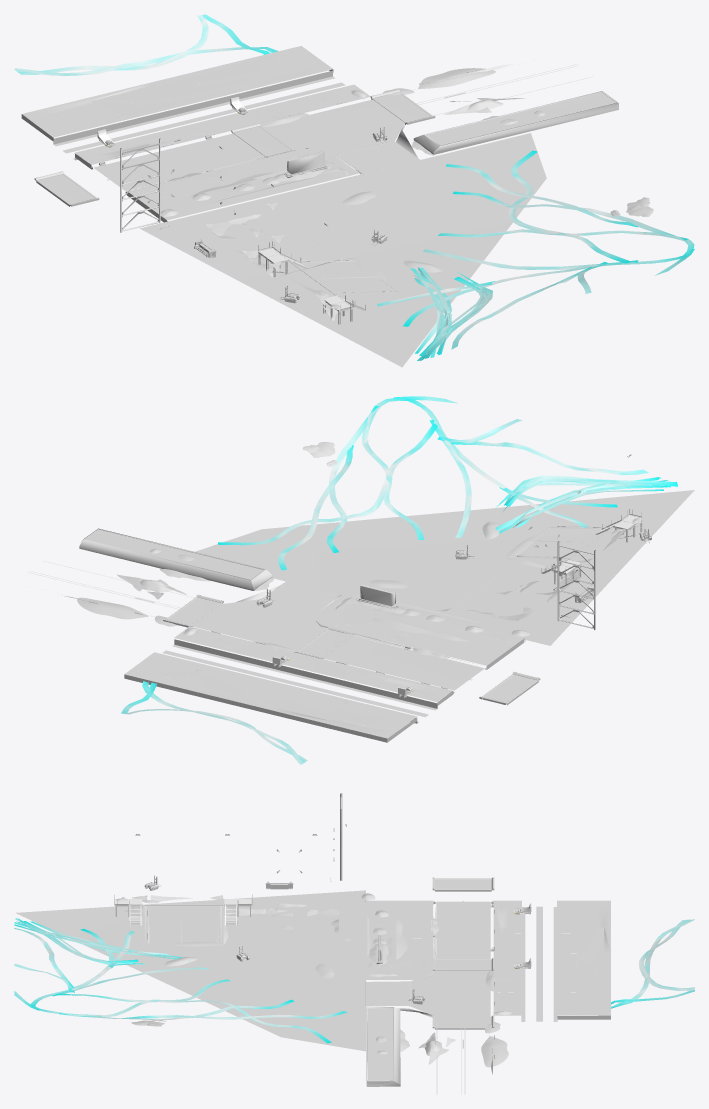
The model's file is cell_86_59.fbx.
3 renders of one model, top to bottom at view 1: azimuth 30°, elevation 25°; view 2: azimuth 150°, elevation 25°; view 3: azimuth 270°, elevation 25°, orthographic. The views are drawn at different scales.
Visible parts, largest first — view 1: SM_I_RoadFacility_Ground_B_04.mo, SM_I_RoadFacility_Ground_B_09.mo, SpaceCenter_Long3_GenerateRoad_Sand_TireTracks_Width_Mesh_x. (×2), SM_I_RoadFacility_Ground_BFlowerBed_02.mo, SpaceCenter_Long3_GenerateRoad_Sand_TireTracks_Narrow_Mesh_., SM_H_Building_FutureTech_PrintArea_ExterWall_01C.mo.001, SM_RoadFacility_Road_AsphaltRoad_512_01.mo.035, SM_RoadFacility_Road_AsphaltRoad_512_01.mo.040, SM_RoadFacility_Road_AsphaltRoad_512_01.mo.039, SM_H_WalkwaySystem_MetalSupport_17.mo, SM_I_Terrain_Road_Desert_Decal_Sand_01.mo.153, SM_I_RoadFacility_Ground_B_04B.mo (+1 smaller); view 2: SM_I_RoadFacility_Ground_B_04.mo, SM_I_RoadFacility_Ground_B_09.mo, SpaceCenter_Long3_GenerateRoad_Sand_TireTracks_Width_Mesh_x. (×2), SM_I_RoadFacility_Ground_BFlowerBed_02.mo, SpaceCenter_Long3_GenerateRoad_Sand_TireTracks_Narrow_Mesh_., SM_H_Building_FutureTech_PrintArea_ExterWall_01C.mo.001, SM_RoadFacility_Road_AsphaltRoad_512_01.mo.035, SM_RoadFacility_Road_AsphaltRoad_512_01.mo.040, SM_RoadFacility_Road_AsphaltRoad_512_01.mo.039, SM_I_Terrain_Road_Desert_Decal_Sand_01.mo.153, SM_H_WalkwaySystem_MetalSupport_17.mo, SM_I_RoadFacility_Ground_B_04B.mo (+1 smaller); view 3: SM_I_RoadFacility_Ground_B_04.mo, SM_I_RoadFacility_Ground_B_09.mo, SpaceCenter_Long3_GenerateRoad_Sand_TireTracks_Width_Mesh_x. (×2), SM_I_RoadFacility_Ground_BFlowerBed_02.mo, SpaceCenter_Long3_GenerateRoad_Sand_TireTracks_Narrow_Mesh_., SM_H_WalkwaySystem_MetalSupport_17.mo, SM_RoadFacility_Road_AsphaltRoad_512_01.mo.035, SM_RoadFacility_Road_AsphaltRoad_512_01.mo.040, SM_RoadFacility_Road_AsphaltRoad_512_01.mo.039, SM_I_Terrain_Road_Desert_Decal_Sand_01.mo.153, SM_I_RoadFacility_Ground_B_04B.mo.
Boxes of the visible parts, x1,y1,x2,y2 form: SM_I_RoadFacility_Ground_B_04.mo: [139, 133, 546, 367]; SM_I_RoadFacility_Ground_B_09.mo: [21, 46, 419, 222]; SpaceCenter_Long3_GenerateRoad_Sand_TireTracks_Width_Mesh_x. (×2): [14, 14, 694, 349]; SM_I_RoadFacility_Ground_BFlowerBed_02.mo: [413, 91, 618, 154]; SpaceCenter_Long3_GenerateRoad_Sand_TireTracks_Narrow_Mesh_.: [410, 262, 492, 360]; SM_H_Building_FutureTech_PrintArea_ExterWall_01C.mo.001: [120, 138, 160, 232]; SM_RoadFacility_Road_AsphaltRoad_512_01.mo.035: [34, 171, 99, 206]; SM_RoadFacility_Road_AsphaltRoad_512_01.mo.040: [370, 89, 435, 124]; SM_RoadFacility_Road_AsphaltRoad_512_01.mo.039: [231, 123, 295, 157]; SM_H_WalkwaySystem_MetalSupport_17.mo: [258, 248, 364, 324]; SM_I_Terrain_Road_Desert_Decal_Sand_01.mo.153: [418, 68, 495, 89]; SM_I_RoadFacility_Ground_B_04B.mo: [195, 182, 410, 260]; SM_I_RoadFacility_Ground_B_04.mo: [195, 490, 694, 645]; SM_I_RoadFacility_Ground_B_09.mo: [124, 582, 525, 742]; SpaceCenter_Long3_GenerateRoad_Sand_TireTracks_Width_Mesh_x. (×2): [121, 396, 648, 764]; SM_I_RoadFacility_Ground_BFlowerBed_02.mo: [79, 528, 272, 590]; SpaceCenter_Long3_GenerateRoad_Sand_TireTracks_Narrow_Mesh_.: [485, 475, 677, 533]; SM_H_Building_FutureTech_PrintArea_ExterWall_01C.mo.001: [557, 541, 595, 629]; SM_RoadFacility_Road_AsphaltRoad_512_01.mo.035: [479, 671, 540, 705]; SM_RoadFacility_Road_AsphaltRoad_512_01.mo.040: [163, 594, 223, 627]; SM_RoadFacility_Road_AsphaltRoad_512_01.mo.039: [294, 626, 354, 658]; SM_I_Terrain_Road_Desert_Decal_Sand_01.mo.153: [77, 597, 148, 619]; SM_H_WalkwaySystem_MetalSupport_17.mo: [542, 515, 642, 585]; SM_I_RoadFacility_Ground_B_04B.mo: [359, 551, 561, 631]; SM_I_RoadFacility_Ground_B_04.mo: [16, 890, 365, 1051]; SM_I_RoadFacility_Ground_B_09.mo: [365, 900, 610, 1021]; SpaceCenter_Long3_GenerateRoad_Sand_TireTracks_Width_Mesh_x. (×2): [14, 919, 694, 1043]; SM_I_RoadFacility_Ground_BFlowerBed_02.mo: [366, 1007, 400, 1086]; SpaceCenter_Long3_GenerateRoad_Sand_TireTracks_Narrow_Mesh_.: [14, 918, 189, 965]; SM_H_WalkwaySystem_MetalSupport_17.mo: [115, 899, 251, 925]; SM_RoadFacility_Road_AsphaltRoad_512_01.mo.035: [432, 877, 494, 891]; SM_RoadFacility_Road_AsphaltRoad_512_01.mo.040: [432, 1015, 494, 1029]; SM_RoadFacility_Road_AsphaltRoad_512_01.mo.039: [432, 958, 494, 970]; SM_I_Terrain_Road_Desert_Decal_Sand_01.mo.153: [481, 1036, 508, 1067]; SM_I_RoadFacility_Ground_B_04B.mo: [237, 910, 361, 979].
Bounding box in the file's own units: 97 × 20.13 × 128.
